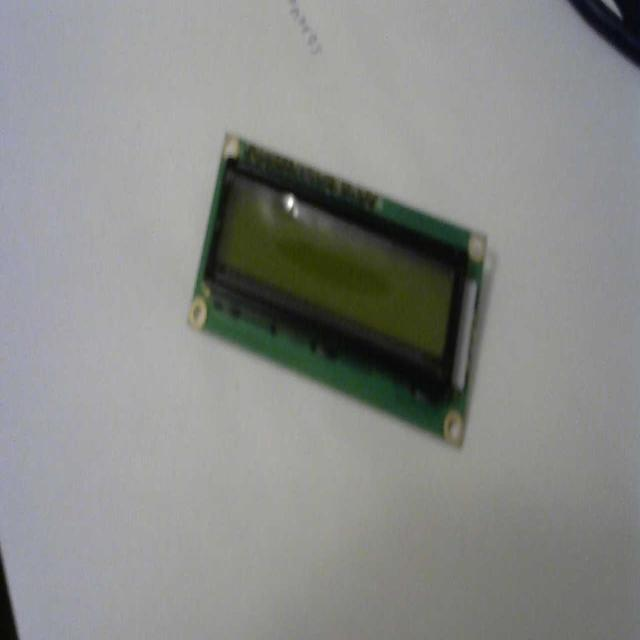lcd: (187, 129, 488, 451)
